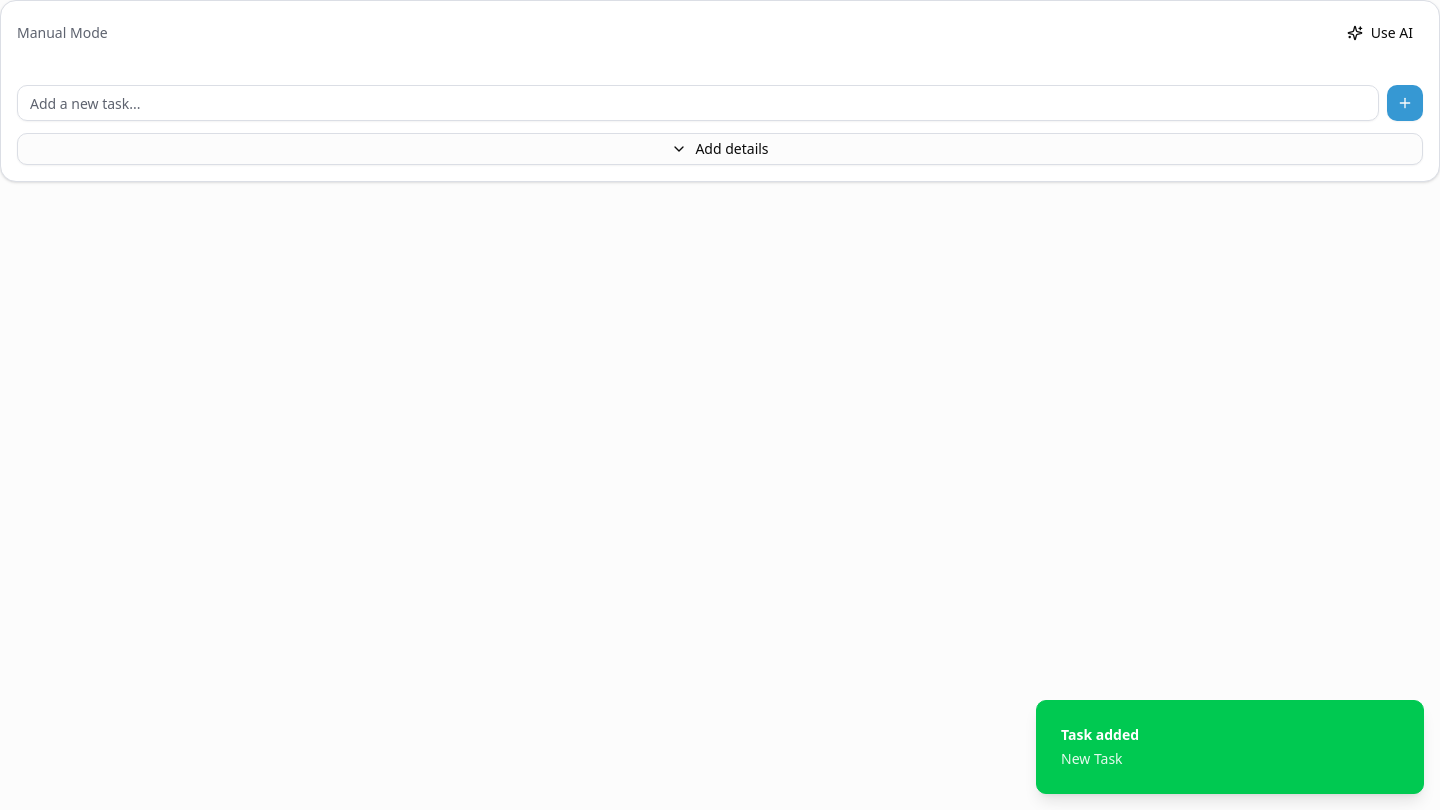
it: TaskForm › shows details section when "Add details" is clicked
Step 1. Click the button "Add details" → click(720, 149), box [17,133,1423,165]
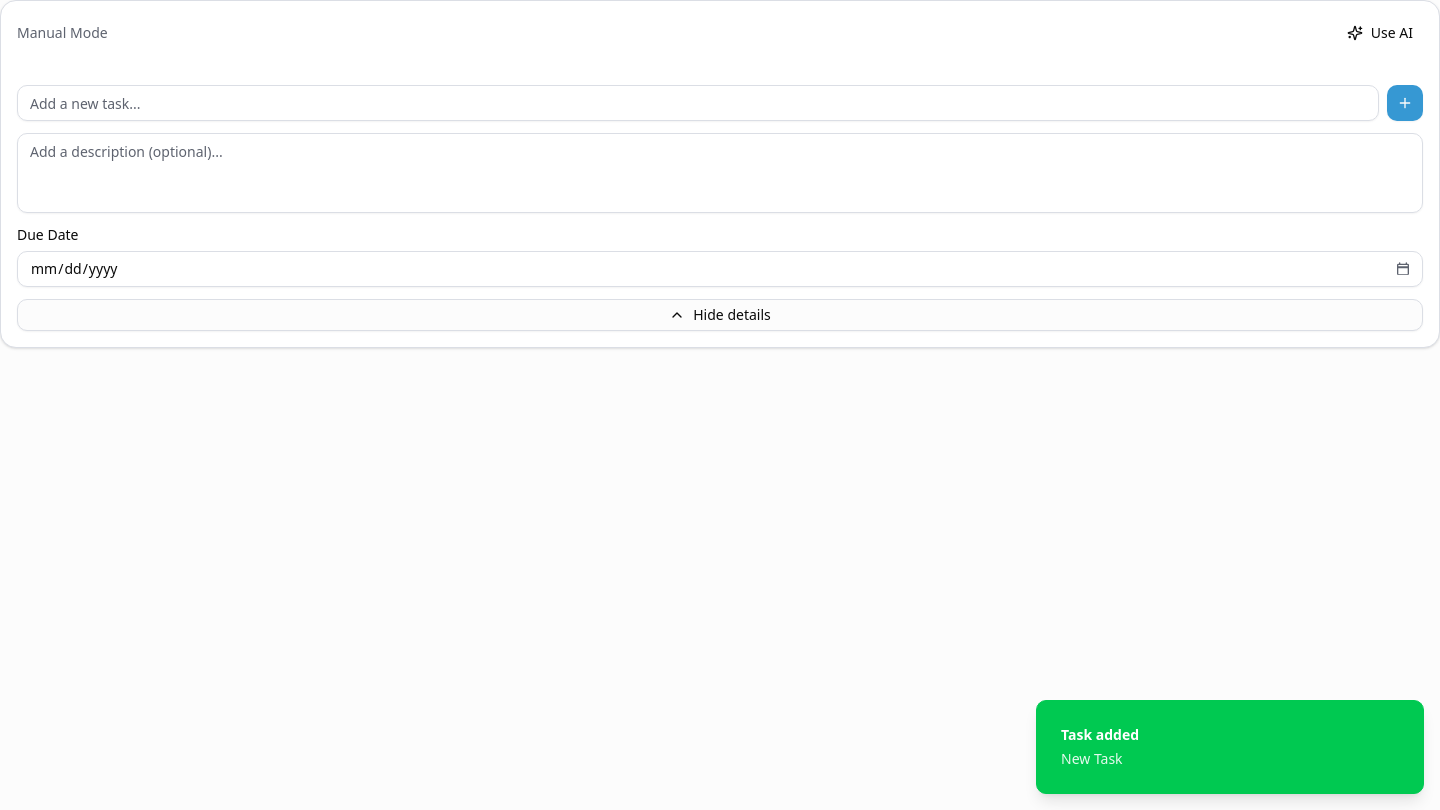
Now the text box with placeholder "Add a description (optional)..." is shown, box [17,133,1423,213]
Now the date field labelled "Due Date" is shown, box [17,251,1423,287]
